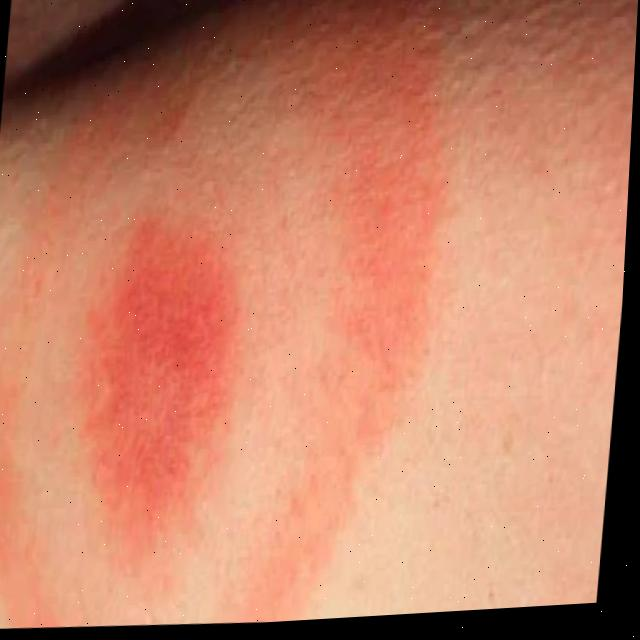Rosacea: (0, 64, 428, 640)
